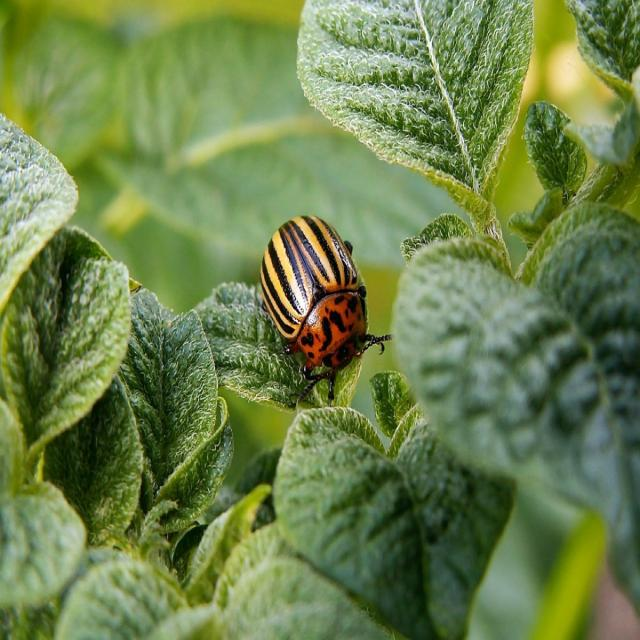ShuCaiHuaBanChong-Grown-: (250, 198, 378, 382)
